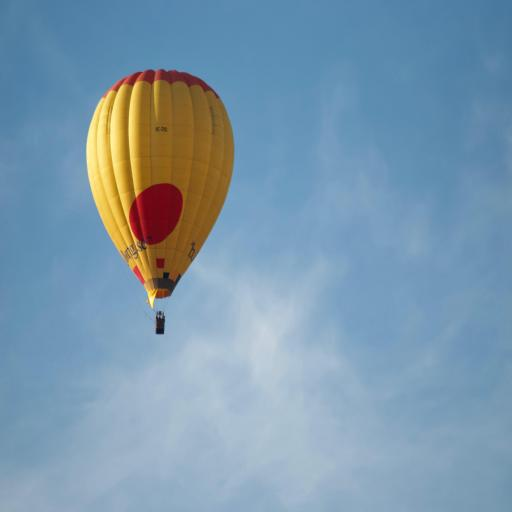hot air ballon: (87, 68, 234, 334)
